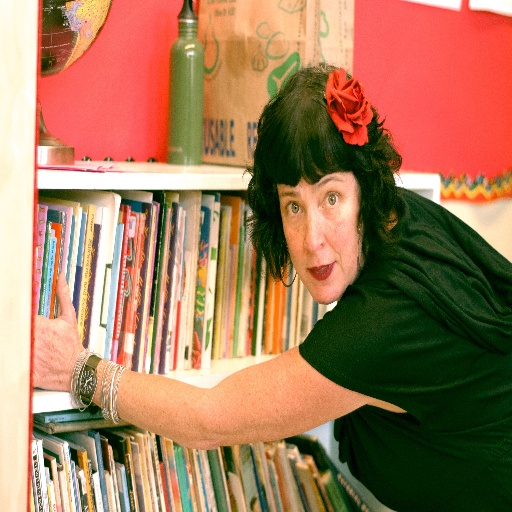hand: (38, 266, 86, 410)
